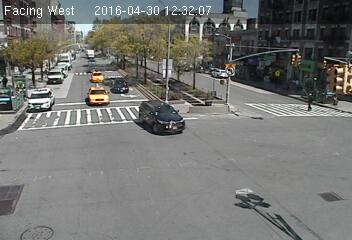neg: (141, 98, 174, 142), (25, 102, 51, 137), (237, 102, 262, 136), (198, 93, 223, 126), (163, 172, 187, 205), (89, 147, 112, 178), (179, 41, 201, 71), (244, 189, 266, 217), (274, 39, 295, 68), (289, 173, 309, 199), (29, 20, 49, 46), (85, 63, 104, 89), (99, 104, 118, 129), (224, 54, 242, 78), (37, 163, 54, 186), (239, 155, 255, 176), (133, 44, 148, 63)
pos: (302, 91, 319, 113)
